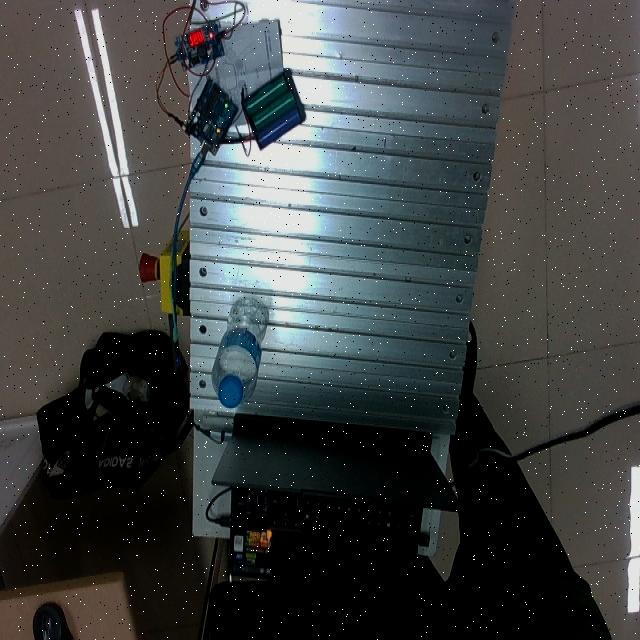lavie: (211, 297, 268, 408)
